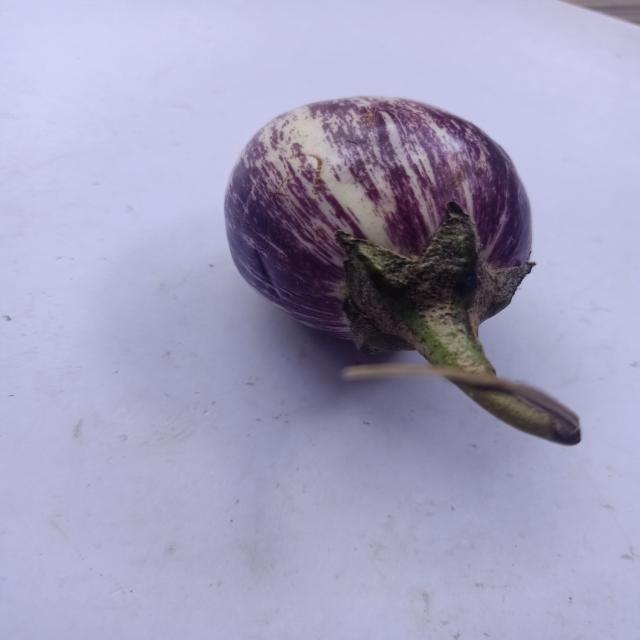Eggplant: (204, 86, 610, 466)
